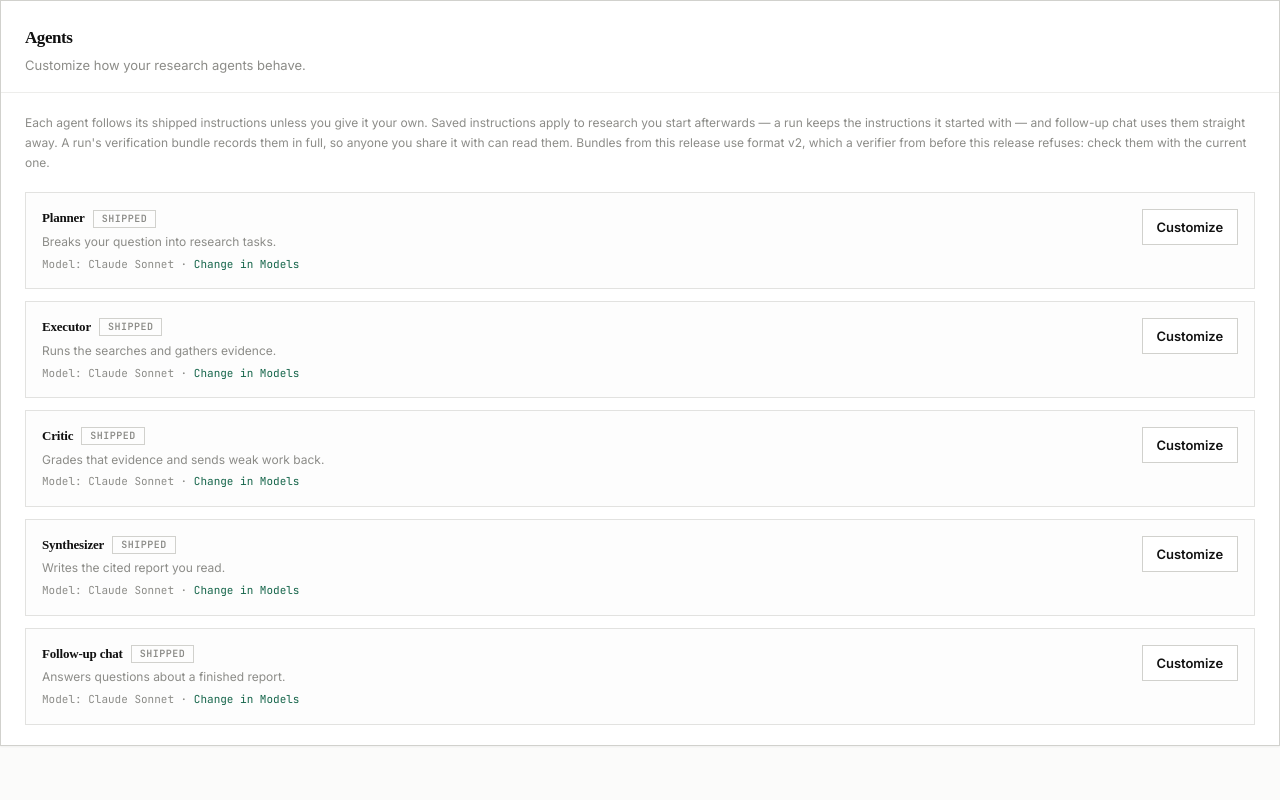
Test case: editing › Customize opens that agent's editor on the shipped text
Click the button "Customize" in the row of "Runs the searches and gathers evidence.".
click(1190, 336)  # box [1142,318,1238,354]
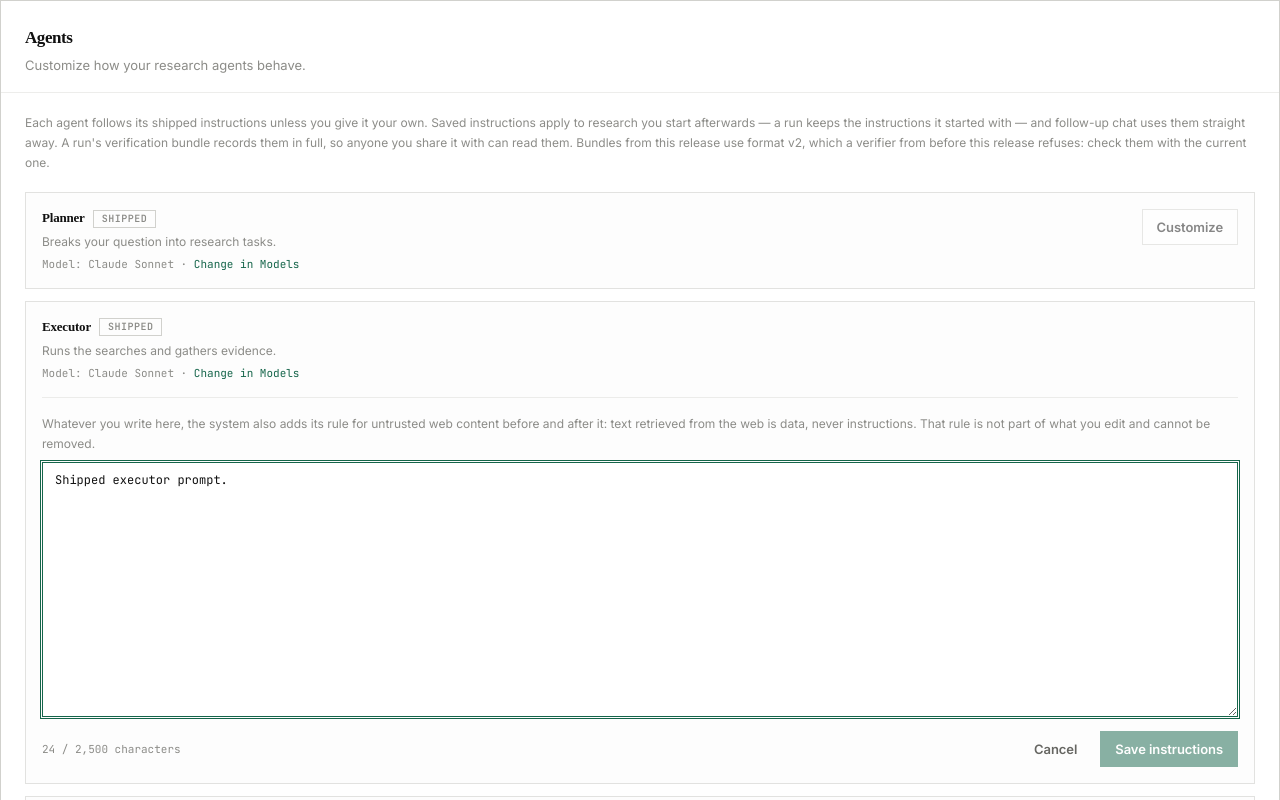
Check: the text box named "Instructions for Executor" holds "Shipped executor prompt.", box [42,462,1238,717]
